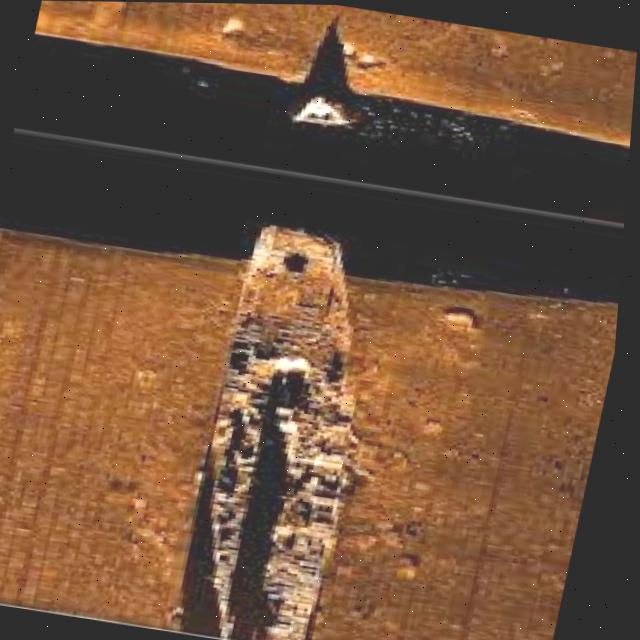shipwreck: (168, 214, 420, 640)
